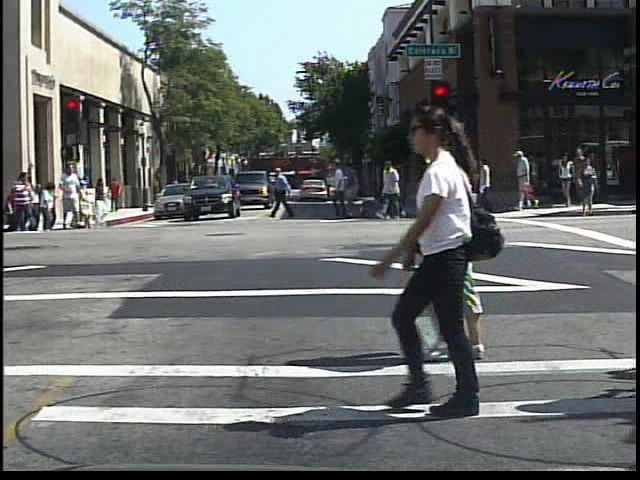person: (359, 108, 515, 420), (408, 117, 503, 360), (56, 161, 87, 232), (10, 164, 35, 234), (514, 144, 538, 211), (107, 176, 126, 214), (166, 172, 185, 205)
